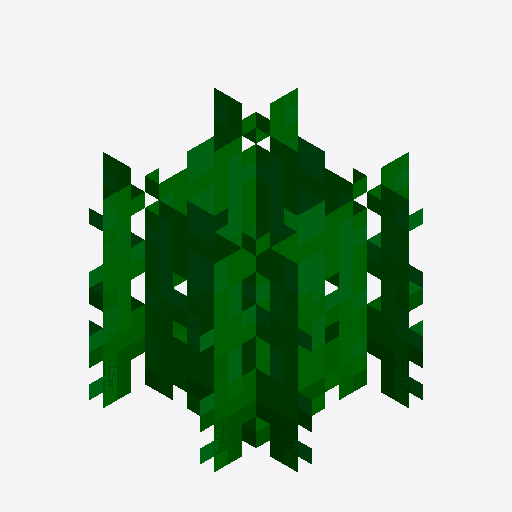
Isometric view (azimuth 45°, elevation 35.3°) of a Minecraft model made of 4 cuboids, textured from the same repository.
Parts seen in each view (by area): element 1, element 4, element 2, element 3.
Boxes of the visible parts, x1=… form: element 1: x1=89, y1=152, x2=311, y2=471; element 4: x1=200, y1=152, x2=422, y2=471; element 2: x1=214, y1=88, x2=422, y2=407; element 3: x1=89, y1=88, x2=297, y2=407.
Size of the model in its own units: 16 by 16 by 16.